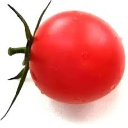tomato: (26, 10, 126, 104)
